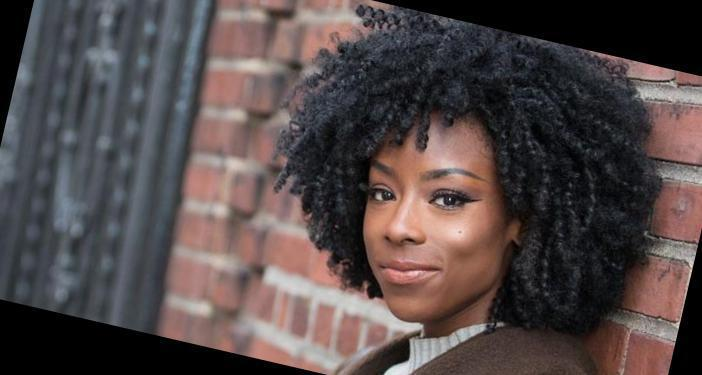Sober: (359, 134, 500, 313)
